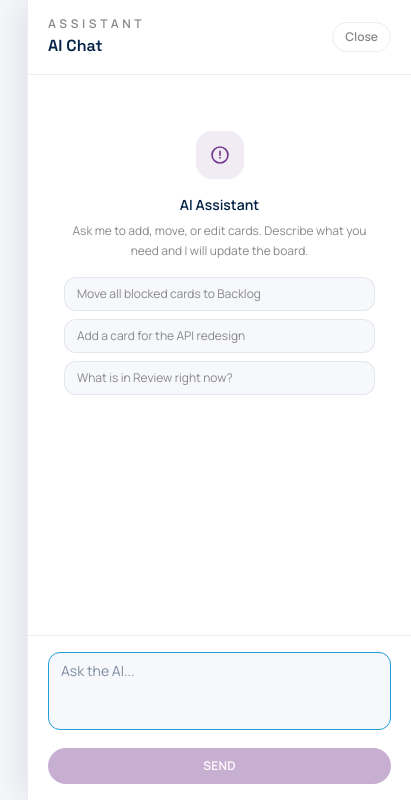
Test: AiSidebar › sends a message and shows the reply
Type "Hello" into the text box named "Message" at coordinates (220, 691), box [48, 652, 391, 730]
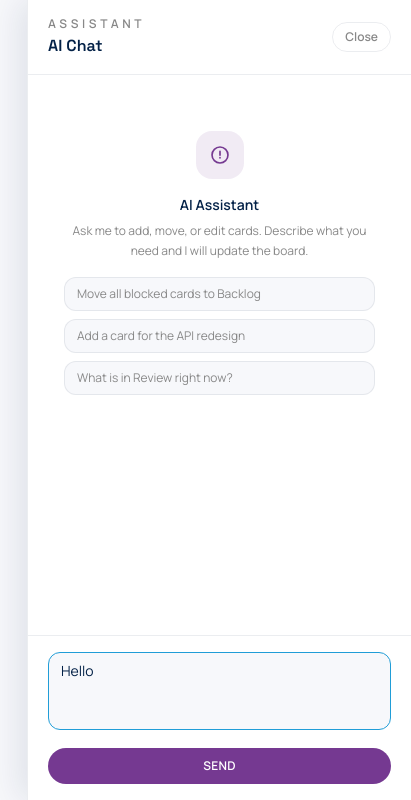
Click the button "Send" at coordinates (220, 766), box [48, 748, 391, 784]
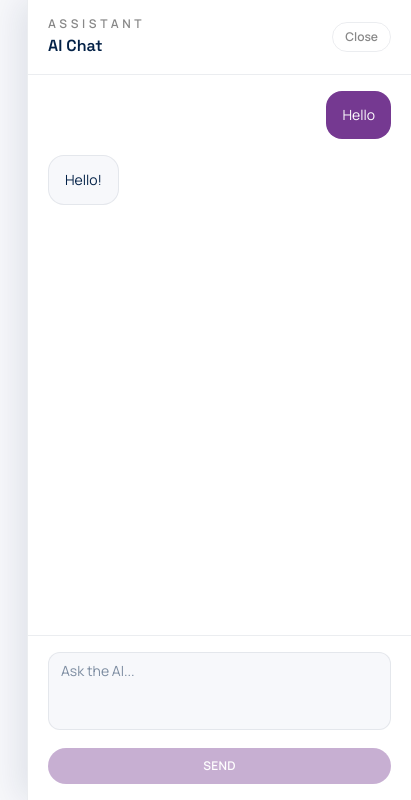
Check: the text "Hello!" is shown, box [48, 155, 119, 205]
